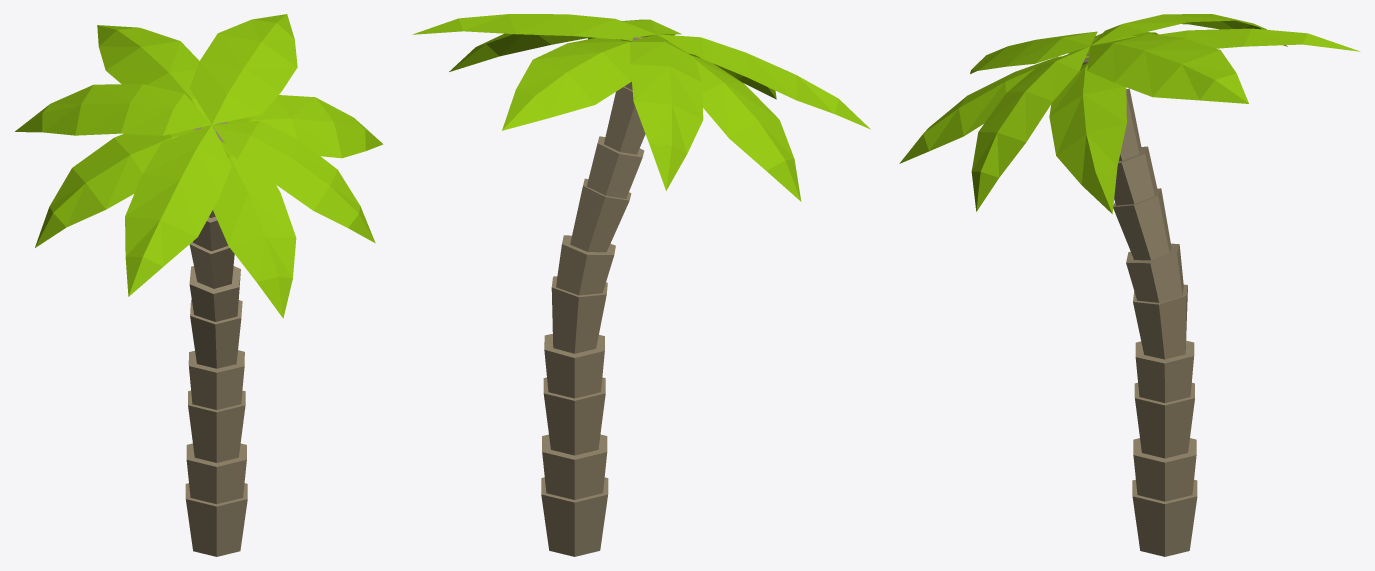
Rendered from palm6.fbx.
3 renders of one model, left to right at view 1: azimuth 30°, elevation 25°; view 2: azimuth 150°, elevation 25°; view 3: azimuth 270°, elevation 25°, orthographic. The views are drawn at different scales.
Visible parts, largest first — view 1: palm6; view 2: palm6; view 3: palm6.
Boxes of the visible parts, bbox=[...] form: palm6: bbox=[15, 14, 383, 556]; palm6: bbox=[412, 14, 870, 556]; palm6: bbox=[899, 14, 1360, 556].
Bounding box in the file's own units: 137 × 188 × 155.
